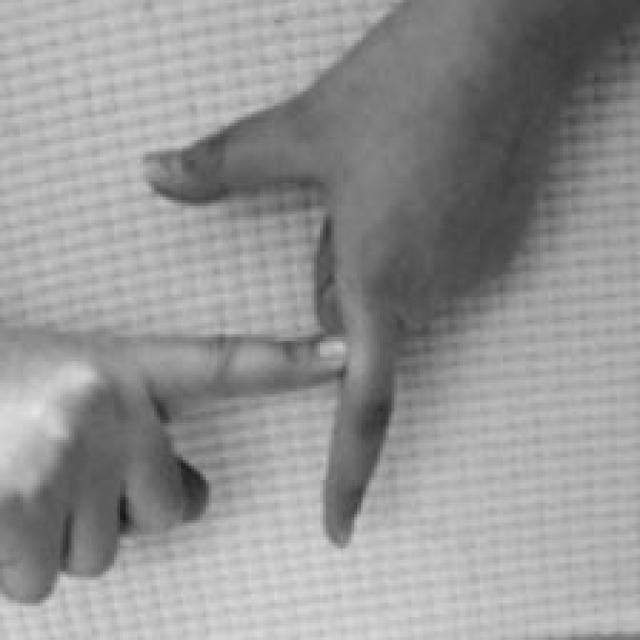F: (0, 31, 557, 605)
